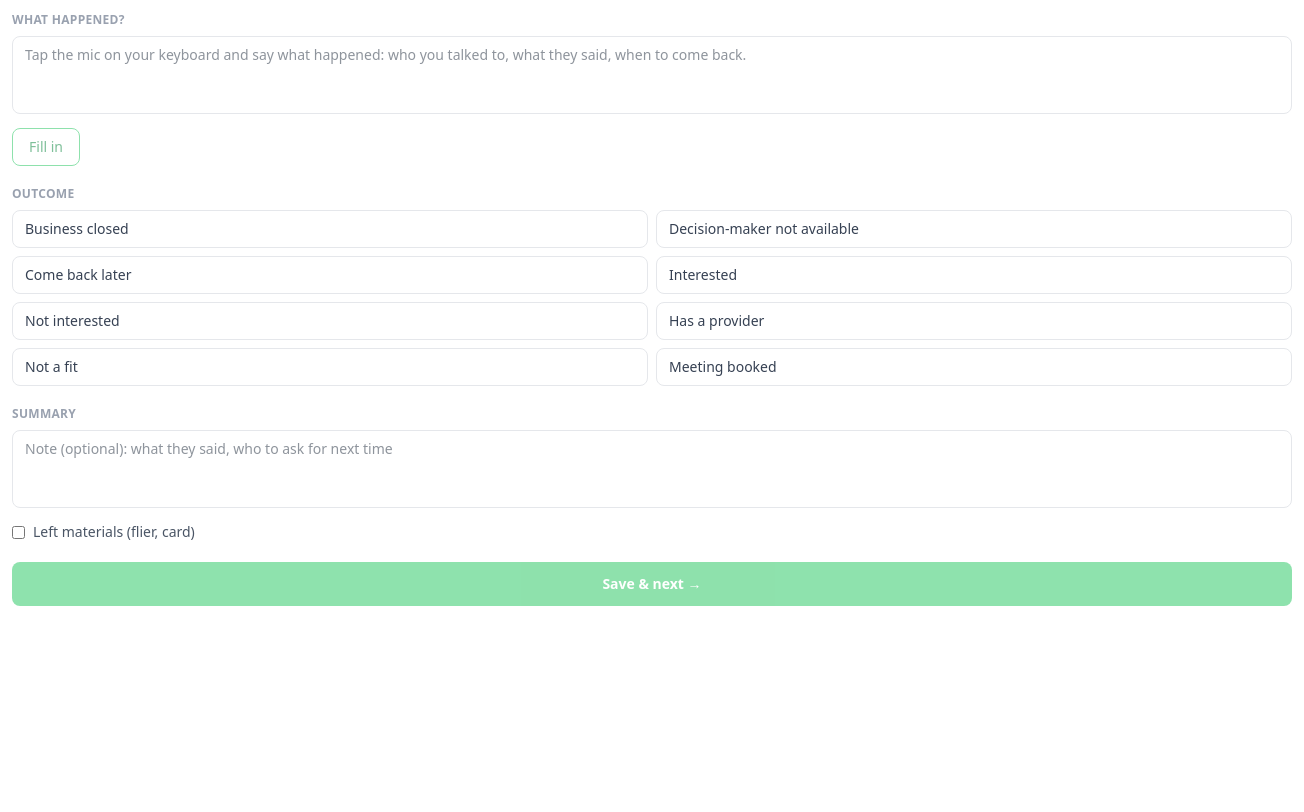
Scenario: LogVisitForm: Fill in › puts a come-back for today under Later today
Type "back around 3" into the text box labelled "What happened?".
click(652, 75); type("back around 3")  # box [12,36,1292,114]
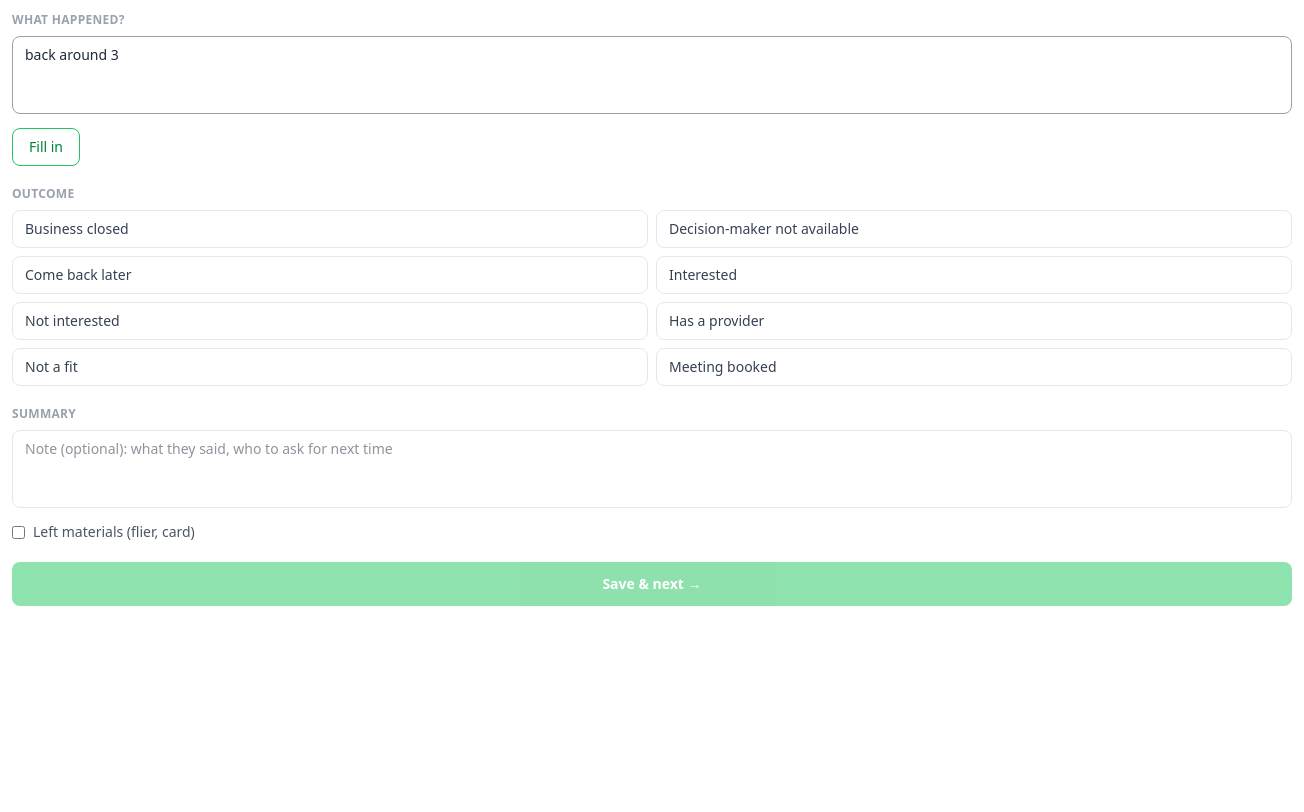
Click the button "Fill in".
click(46, 147)  # box [12,128,80,166]
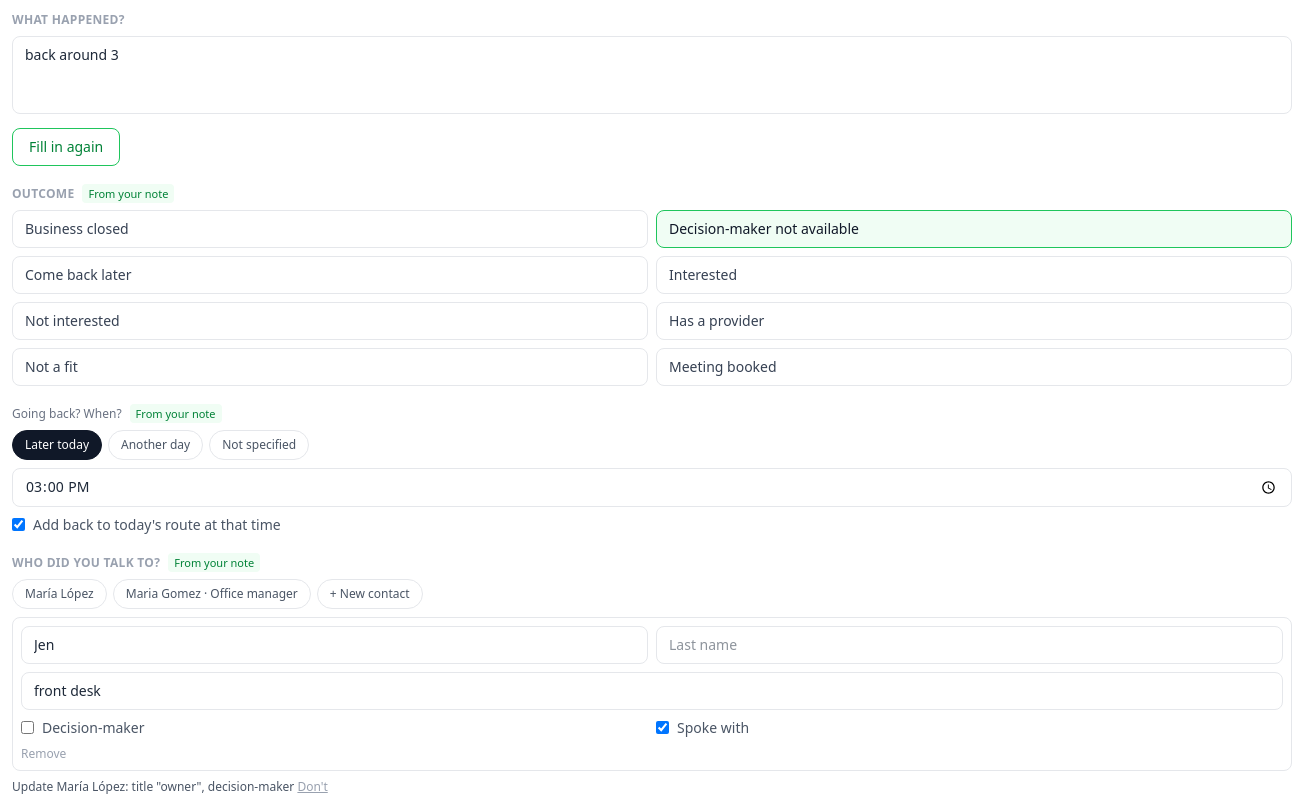
Expected: the time field named "Come back at" holds "15:00", [12,468,1292,507]
